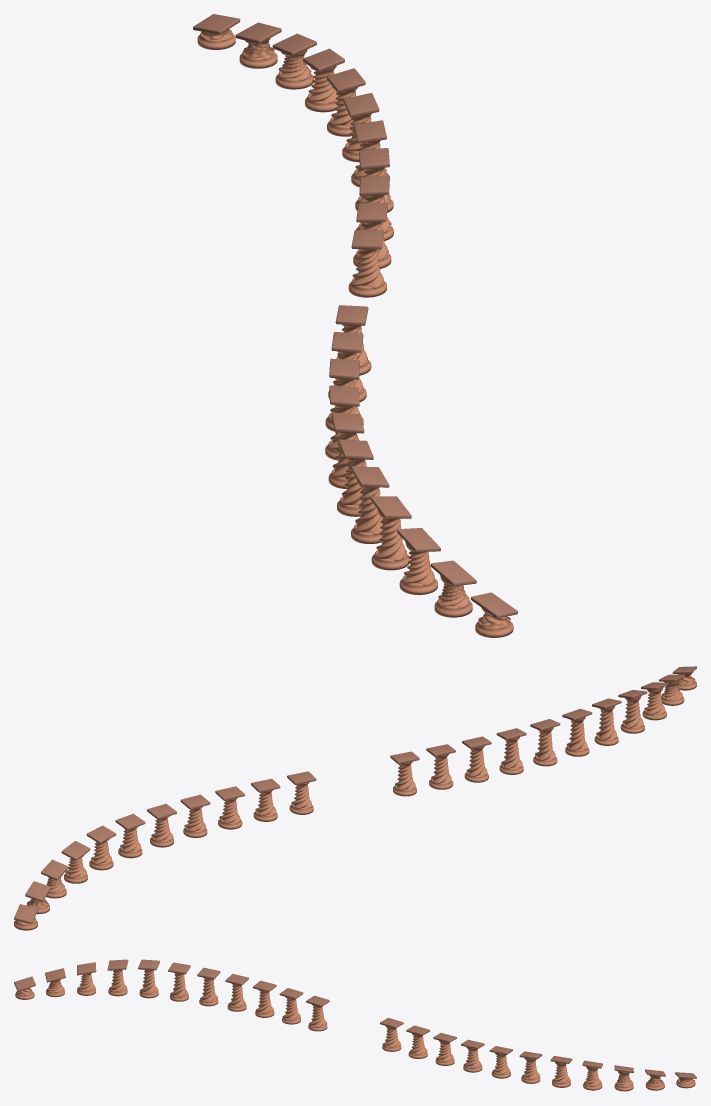
File: sc02_supports_rope_fixture.glb
The picture shows the model from 3 angles, top to bottom: view 1: azimuth 30°, elevation 25°; view 2: azimuth 150°, elevation 25°; view 3: azimuth 270°, elevation 25°; orthographic projection. The views are drawn at different scales.
Visible parts, largest first — view 1: SC02_ROPE_18_shaft, SC02_ROPE_17_shaft; view 2: SC02_ROPE_17_shaft, SC02_ROPE_16_shaft, SC02_ROPE_18_shaft, SC02_ROPE_15_shaft, SC02_ROPE_14_shaft, SC02_ROPE_13_shaft, SC02_ROPE_12_shaft, SC02_ROPE_11_shaft; view 3: SC02_ROPE_17_shaft, SC02_ROPE_15_shaft, SC02_ROPE_16_shaft, SC02_ROPE_13_shaft, SC02_ROPE_12_shaft, SC02_ROPE_14_shaft, SC02_ROPE_18_shaft, SC02_ROPE_11_shaft, SC02_ROPE_04_shaft, SC02_ROPE_05_shaft, SC02_ROPE_09_shaft, SC02_ROPE_10_shaft (+4 smaller).
Part boxes in pixels (left/top/right/bottom): SC02_ROPE_18_shaft: left=375, top=509, right=406, bottom=561; SC02_ROPE_17_shaft: left=354, top=479, right=382, bottom=534; SC02_ROPE_17_shaft: left=596, top=705, right=616, bottom=740; SC02_ROPE_16_shaft: left=566, top=716, right=587, bottom=751; SC02_ROPE_18_shaft: left=622, top=695, right=643, bottom=728; SC02_ROPE_15_shaft: left=535, top=727, right=555, bottom=760; SC02_ROPE_14_shaft: left=501, top=737, right=522, bottom=769; SC02_ROPE_13_shaft: left=466, top=746, right=487, bottom=776; SC02_ROPE_12_shaft: left=431, top=754, right=451, bottom=783; SC02_ROPE_11_shaft: left=395, top=761, right=415, bottom=790; SC02_ROPE_17_shaft: left=140, top=969, right=158, bottom=994; SC02_ROPE_15_shaft: left=200, top=977, right=217, bottom=1002; SC02_ROPE_16_shaft: left=170, top=972, right=188, bottom=997; SC02_ROPE_13_shaft: left=255, top=989, right=273, bottom=1013; SC02_ROPE_12_shaft: left=282, top=997, right=300, bottom=1020; SC02_ROPE_14_shaft: left=228, top=983, right=245, bottom=1007; SC02_ROPE_18_shaft: left=109, top=969, right=127, bottom=992; SC02_ROPE_11_shaft: left=309, top=1004, right=327, bottom=1027; SC02_ROPE_04_shaft: left=552, top=1062, right=570, bottom=1083; SC02_ROPE_05_shaft: left=522, top=1057, right=540, bottom=1079; SC02_ROPE_09_shaft: left=409, top=1033, right=427, bottom=1054; SC02_ROPE_10_shaft: left=382, top=1026, right=400, bottom=1047.
Size of the model in its own units: 97.17 by 13.95 by 257.
